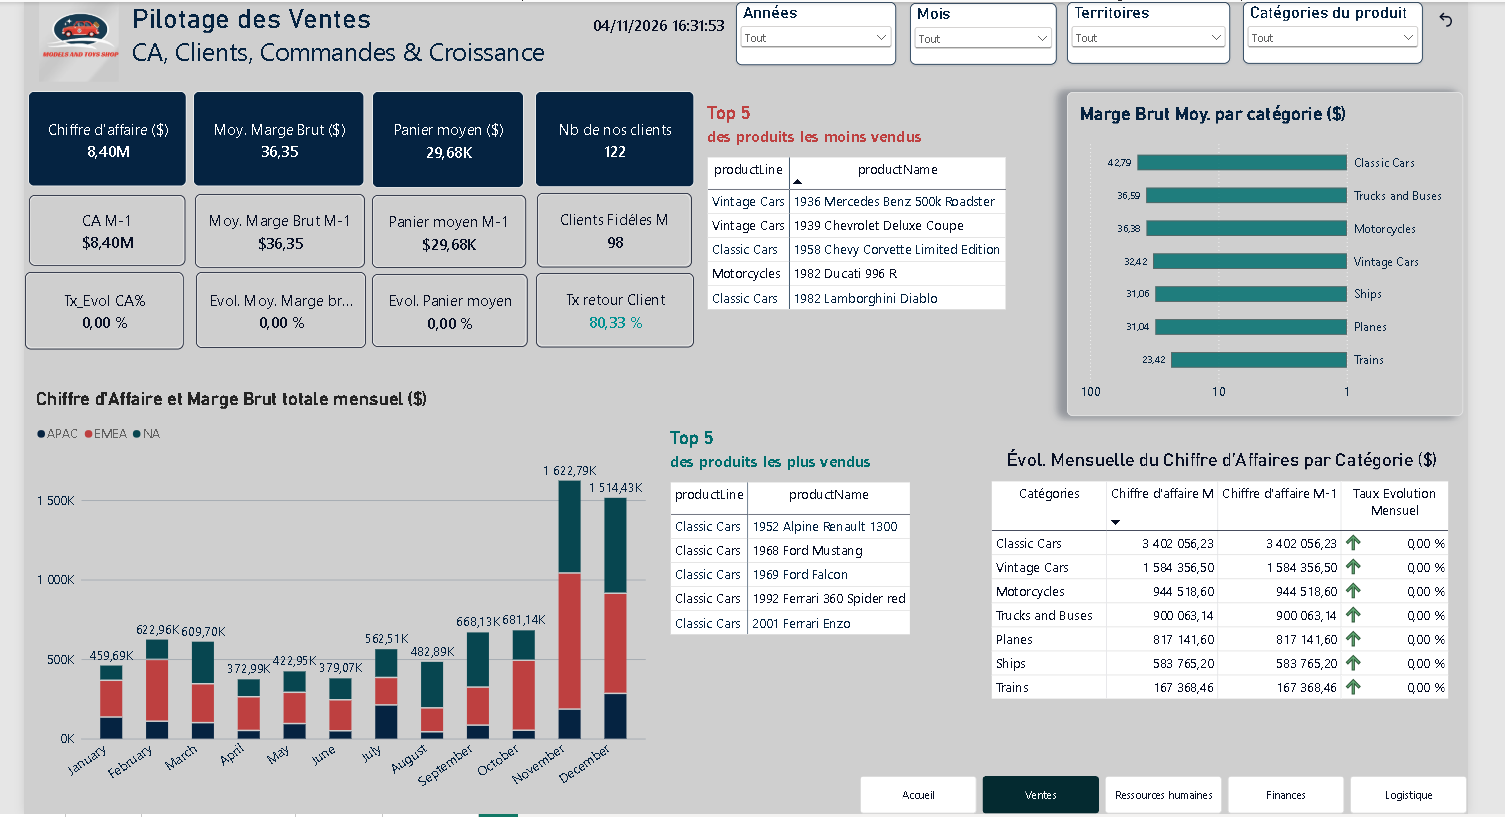

The page's visual inventory and layout, read from the dashboard file:
{"tool":"powerbi","page":{"name":"Ventes","canvas":[1920,1080],"ordinal":1},"visuals":[{"type":"group","id":"g1","title":"Groupe 1","box":[0,0,145.4,105.7],"z":0},{"type":"textbox","title":"Pilotage des Ventes","box":[143.9,0,574.3,88.6],"z":0,"group":"g7"},{"type":"group","id":"g2","title":"Groupe 4","box":[1178.6,0,681,83.4],"z":0,"group":"g9"},{"type":"cardVisual","fields":{"Data":["MESURES.Clients Total"]},"box":[679.3,119,212.9,128.6],"z":0,"group":"g6"},{"type":"cardVisual","fields":{"Data":["MESURES.Panier moyen"]},"box":[461.9,119.7,202.8,129.1],"z":0,"group":"g4"},{"type":"cardVisual","fields":{"Data":["MESURES.Chiffre d'affaire M-1"]},"box":[6.4,256.8,207.6,94.5],"z":0,"group":"g8"},{"type":"cardVisual","title":"Moy. Marge Brut","fields":{"Data":["MESURES.Marge Brut Moyenne M-1"]},"box":[226.5,256.8,225.9,98.5],"z":0,"group":"g3"},{"type":"image","box":[0,0,145.4,105.7],"z":1000,"group":"g1"},{"type":"slicer","fields":{"Values":["dim_dates.year"]},"box":[947.5,0,212.5,83.8],"z":1000,"group":"g9"},{"type":"cardVisual","fields":{"Data":["MESURES.Clients Fidéles"]},"box":[681.6,254.8,205.7,98.6],"z":1000,"group":"g6"},{"type":"cardVisual","fields":{"Data":["MESURES.Panier moyen M-1"]},"box":[461.9,258.1,204.7,97.1],"z":1000,"group":"g4"},{"type":"cardVisual","fields":{"Data":["MESURES.Tx_Evol CA%"]},"box":[0.7,360.4,211.4,102.9],"z":1000,"group":"g8"},{"type":"cardVisual","fields":{"Data":["MESURES.Marge Brut Moyenne Taux Evolution"]},"box":[227.1,360.4,226.4,101.4],"z":1000,"group":"g3"},{"type":"columnChart","title":"Chiffre d''Affaire et Marge Brut totale mensuel ($)","fields":{"Category":["dim_dates.month_name"],"Series":["DIM_offices.territory"],"Y":["MESURES.Chiffre d'affaire"]},"box":[0,500,842.9,580],"z":1000},{"type":"cardVisual","fields":{"Data":["MESURES.Chiffre d'affaire"]},"box":[4.6,119.1,211.8,127.2],"z":2000,"group":"g8"},{"type":"cardVisual","fields":{"Data":["MESURES.Marge Brut Moyenne"]},"box":[223.6,119.7,228.8,127.7],"z":2000,"group":"g3"},{"type":"cardVisual","fields":{"Data":["MESURES.Taux retour Client"]},"box":[680.2,360.5,210,98.6],"z":2000,"group":"g6"},{"type":"cardVisual","fields":{"Data":["MESURES.Panier Moyen Taux Evolution"]},"box":[462.1,363.2,206.6,97.1],"z":2000,"group":"g4"},{"type":"tableEx","title":"Top 5 ","fields":{"Values":["DIM_products.productLine","DIM_products.productName"]},"box":[842.9,551.4,438.6,312.9],"z":2000},{"type":"slicer","fields":{"Values":["DIM_offices.territory"]},"box":[1387.4,0,217.1,81.7],"z":3000,"group":"g5"},{"type":"slicer","fields":{"Values":["DIM_products.productLine"]},"box":[1621.1,0.1,238.6,81.7],"z":3000,"group":"g2"},{"type":"group","id":"g3","title":"Groupe 5","box":[223.6,119.7,445.1,342],"z":3000,"group":"g8"},{"type":"group","id":"g4","title":"Groupe 3","box":[461.9,119.7,206.8,340.7],"z":3000,"group":"g3"},{"type":"tableEx","title":"Évol. Mensuelle du Chiffre d’Affaires par Catégorie ($)","fields":{"Values":["DIM_products.productLine","MESURES.Chiffre d'affaire","MESURES.Chiffre d'affaire M-1","MESURES.Tx_Evol Mens_Catégorie"]},"box":[1265.7,574.3,654.3,381.4],"z":3000},{"type":"group","id":"g5","title":"Groupe 2","box":[1178.6,0,426,83.4],"z":4000,"group":"g2"},{"type":"group","id":"g6","title":"Groupe 7","box":[0.7,119,891.4,344.3],"z":4000},{"type":"barChart","title":"Marge Brut Moy. par catégorie ($)","fields":{"Category":["DIM_products.productLine"],"Y":["MESURES.Marge Brut Moyenne"]},"box":[1387.1,120,527.1,431.4],"z":5000},{"type":"tableEx","title":"Top 5","fields":{"Values":["DIM_products.productLine","DIM_products.productName"]},"box":[892.9,120,481.4,318.6],"z":6000},{"type":"slicer","title":"Mois","fields":{"Values":["dim_dates.month_name"]},"box":[1178.6,1.1,195.5,82.2],"z":7000,"group":"g5"},{"type":"actionButton","box":[1861.4,1.4,58.6,44.3],"z":7000},{"type":"group","id":"g7","title":"Groupe 1","box":[143.9,0,574.3,88.6],"z":8000},{"type":"cardVisual","fields":{"Data":["MESURES.Aujourd'hui"]},"box":[735,0,212.8,57.2],"z":9000},{"type":"group","id":"g8","title":"Groupe 6","box":[0.7,119.1,668,344.2],"z":9005,"group":"g6"},{"type":"pageNavigator","box":[1111.4,1030,808.6,50],"z":10000},{"type":"group","id":"g9","title":"Groupe 8","box":[947.5,0,912.1,83.8],"z":11000}]}

Visuals, with their boxes on the page's 1920x1080 design canvas (x1, y1, x2, y2). These are canvas units, not pixel positions in the 1505x817 screenshot, which may show the page scaled, cropped or inside an application window:
"Groupe 1" group: <box>0,0,145,106</box>
"Pilotage des Ventes" textbox: <box>144,0,718,89</box>
"Groupe 4" group: <box>1179,0,1860,83</box>
cardVisual - MESURES.Clients Total: <box>679,119,892,248</box>
cardVisual - MESURES.Panier moyen: <box>462,120,665,249</box>
cardVisual - MESURES.Chiffre d'affaire M-1: <box>6,257,214,351</box>
"Moy. Marge Brut" cardVisual: <box>226,257,452,355</box>
image: <box>0,0,145,106</box>
slicer - dim_dates.year: <box>948,0,1160,84</box>
cardVisual - MESURES.Clients Fidéles: <box>682,255,887,353</box>
cardVisual - MESURES.Panier moyen M-1: <box>462,258,667,355</box>
cardVisual - MESURES.Tx_Evol CA%: <box>1,360,212,463</box>
cardVisual - MESURES.Marge Brut Moyenne Taux Evolution: <box>227,360,454,462</box>
"Chiffre d''Affaire et Marge Brut totale mensuel ($)" columnChart: <box>0,500,843,1080</box>
cardVisual - MESURES.Chiffre d'affaire: <box>5,119,216,246</box>
cardVisual - MESURES.Marge Brut Moyenne: <box>224,120,452,247</box>
cardVisual - MESURES.Taux retour Client: <box>680,360,890,459</box>
cardVisual - MESURES.Panier Moyen Taux Evolution: <box>462,363,669,460</box>
"Top 5 " tableEx: <box>843,551,1282,864</box>
slicer - DIM_offices.territory: <box>1387,0,1604,82</box>
slicer - DIM_products.productLine: <box>1621,0,1860,82</box>
"Groupe 5" group: <box>224,120,669,462</box>
"Groupe 3" group: <box>462,120,669,460</box>
"Évol. Mensuelle du Chiffre d’Affaires par Catégorie ($)" tableEx: <box>1266,574,1920,956</box>
"Groupe 2" group: <box>1179,0,1605,83</box>
"Groupe 7" group: <box>1,119,892,463</box>
"Marge Brut Moy. par catégorie ($)" barChart: <box>1387,120,1914,551</box>
"Top 5" tableEx: <box>893,120,1374,439</box>
"Mois" slicer: <box>1179,1,1374,83</box>
actionButton: <box>1861,1,1920,46</box>
"Groupe 1" group: <box>144,0,718,89</box>
cardVisual - MESURES.Aujourd'hui: <box>735,0,948,57</box>
"Groupe 6" group: <box>1,119,669,463</box>
pageNavigator: <box>1111,1030,1920,1080</box>
"Groupe 8" group: <box>948,0,1860,84</box>
